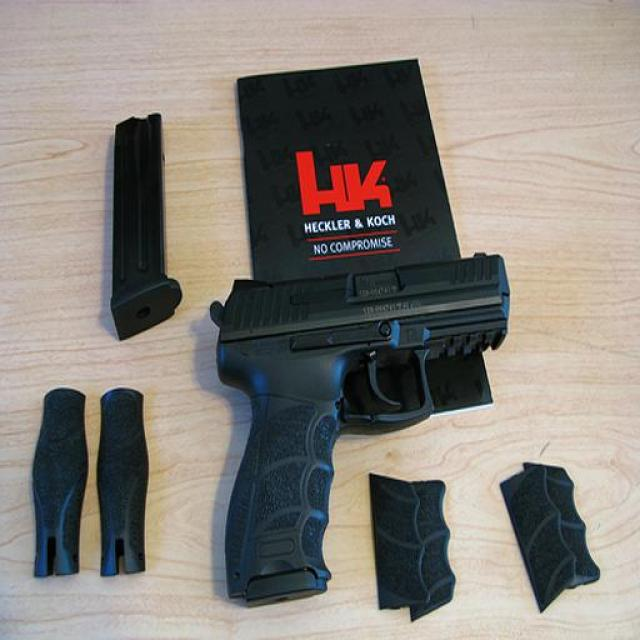pistol: (202, 245, 511, 596)
